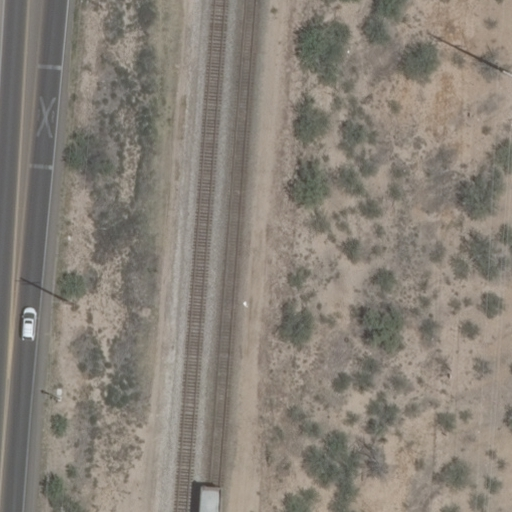DT: (60, 295, 75, 311), (497, 68, 512, 81)
